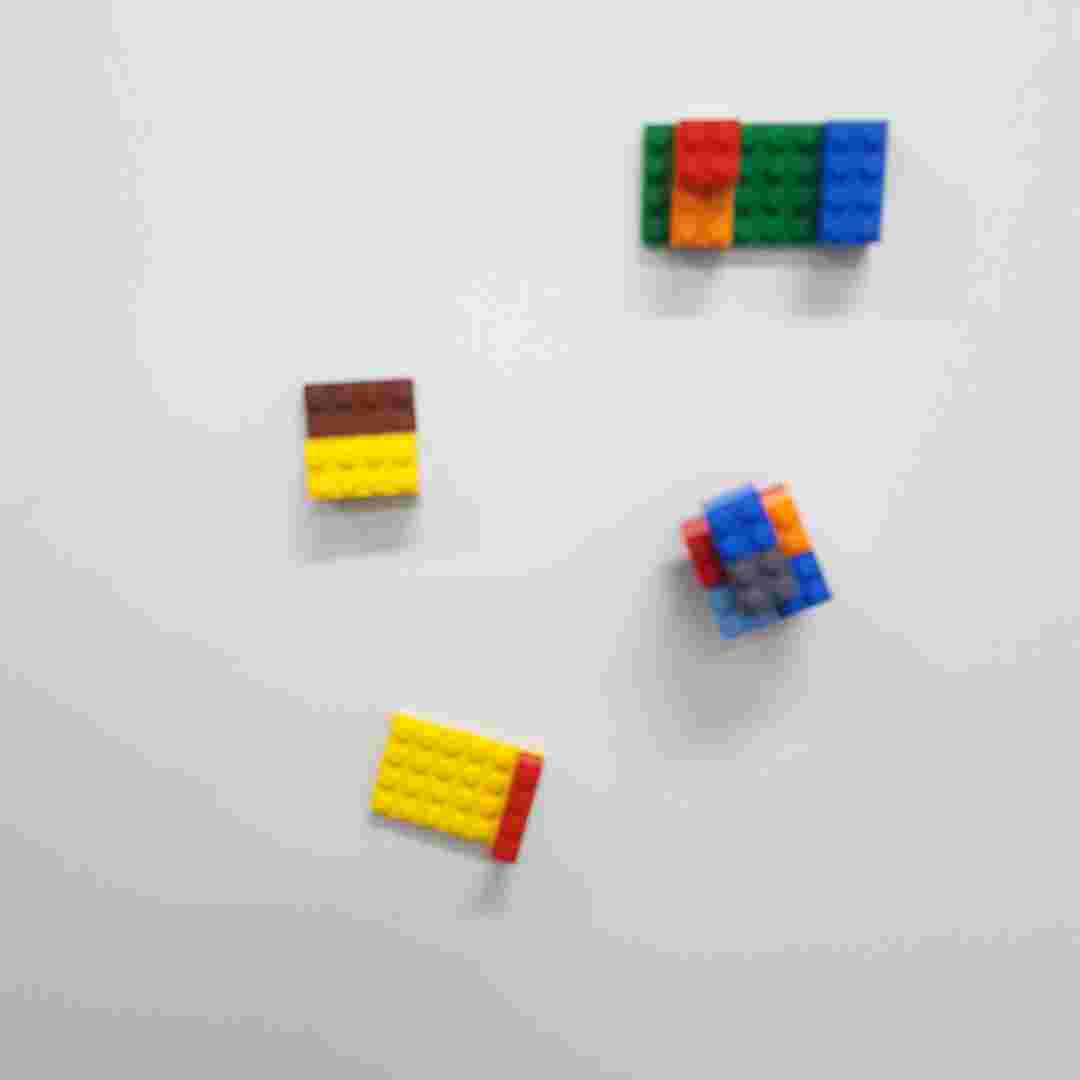LEGO: (632, 112, 891, 252), (361, 708, 561, 877), (679, 474, 837, 645), (300, 371, 428, 505)
